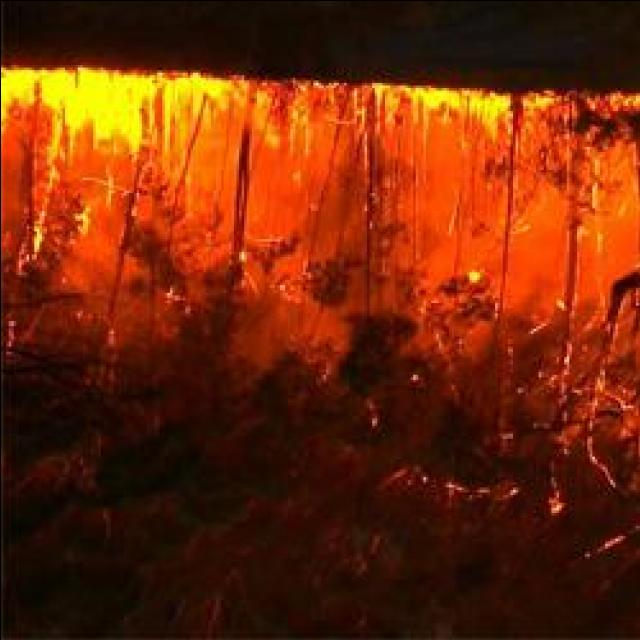fire: (6, 68, 274, 150), (361, 85, 574, 140)
